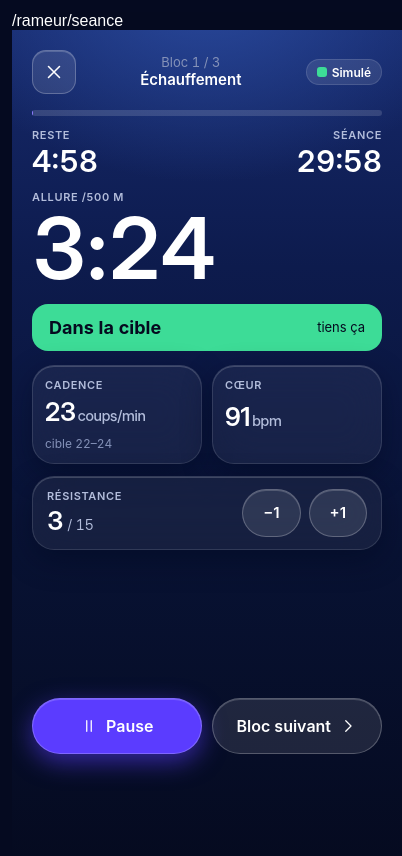
Test case: séance en direct › arrête le temps en pause et quand la connexion est coupée, et propose de reconnecter
The width and height of the screenshot is (402, 856).
Later steps or results of the test are not shown.
Click the button "Pause". click: click(117, 726)
box: [32,698,202,754]
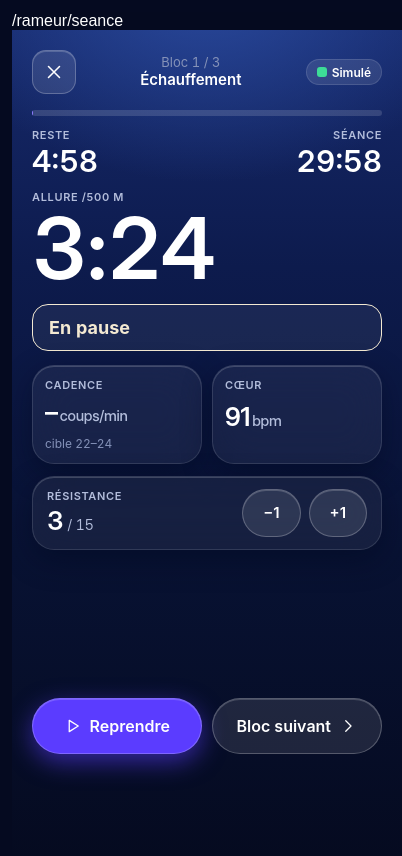
Expected: the text "En pause" is shown, [49,317,130,338]
